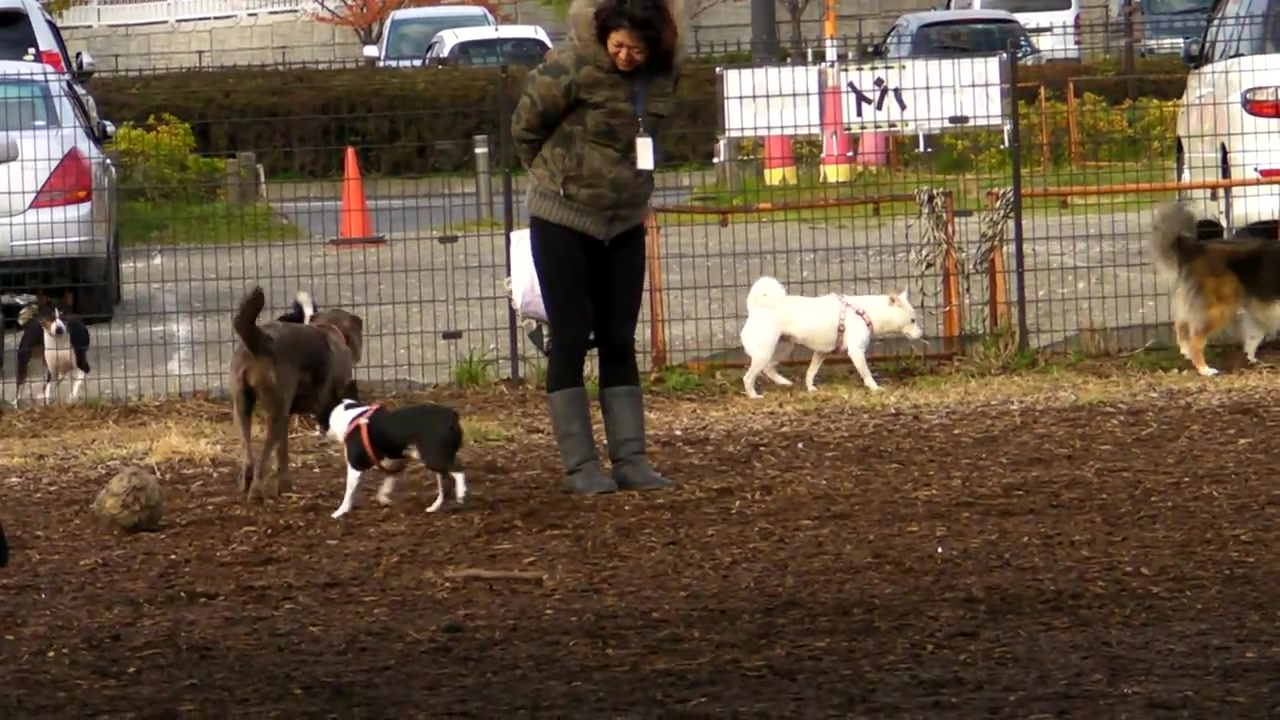dog: (735, 278, 925, 401)
